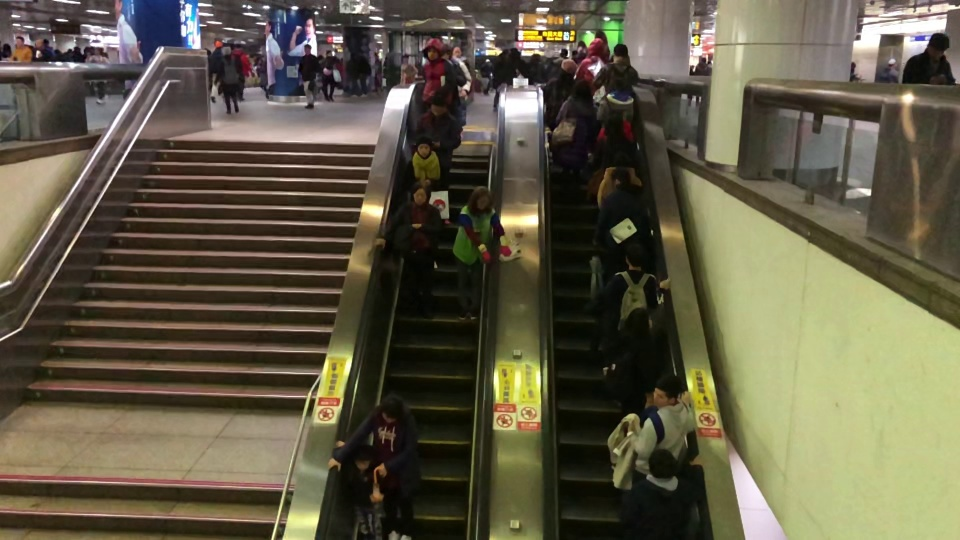person_head: (652, 373, 681, 406), (648, 448, 677, 478), (624, 306, 651, 332), (380, 393, 402, 424), (926, 32, 949, 58), (624, 243, 645, 268), (353, 444, 372, 471), (472, 185, 494, 208), (603, 113, 624, 135), (413, 133, 432, 157), (424, 38, 443, 61), (412, 180, 431, 202), (559, 58, 577, 78), (429, 96, 447, 115), (571, 80, 589, 98), (588, 37, 604, 56), (612, 43, 628, 62), (607, 76, 626, 92), (612, 168, 631, 184), (612, 152, 630, 168), (15, 35, 25, 47), (530, 53, 541, 63), (221, 46, 231, 56), (453, 46, 462, 57), (303, 43, 312, 53), (887, 58, 897, 67), (3, 43, 11, 52), (35, 39, 44, 46), (850, 61, 856, 71), (215, 40, 222, 48), (700, 56, 707, 63), (235, 43, 241, 50), (325, 50, 331, 56), (94, 48, 99, 52), (708, 59, 712, 64)
person_vbox: (325, 392, 422, 540), (375, 180, 438, 320), (452, 186, 512, 321), (619, 447, 705, 531), (626, 372, 695, 476), (414, 97, 462, 224), (602, 243, 670, 331), (403, 133, 445, 269), (549, 80, 594, 206), (604, 306, 652, 417), (593, 169, 651, 246), (334, 438, 374, 536), (901, 32, 956, 84), (417, 37, 455, 106), (597, 151, 642, 208), (592, 113, 636, 171), (592, 44, 640, 92), (542, 58, 577, 123), (596, 75, 635, 125), (216, 46, 242, 114), (297, 43, 319, 110), (89, 47, 111, 107), (575, 37, 604, 81), (232, 43, 252, 102), (319, 50, 337, 102), (208, 40, 222, 103), (694, 56, 708, 104), (8, 35, 31, 61), (877, 58, 899, 84), (32, 39, 49, 61), (849, 61, 862, 82), (706, 59, 712, 75)
